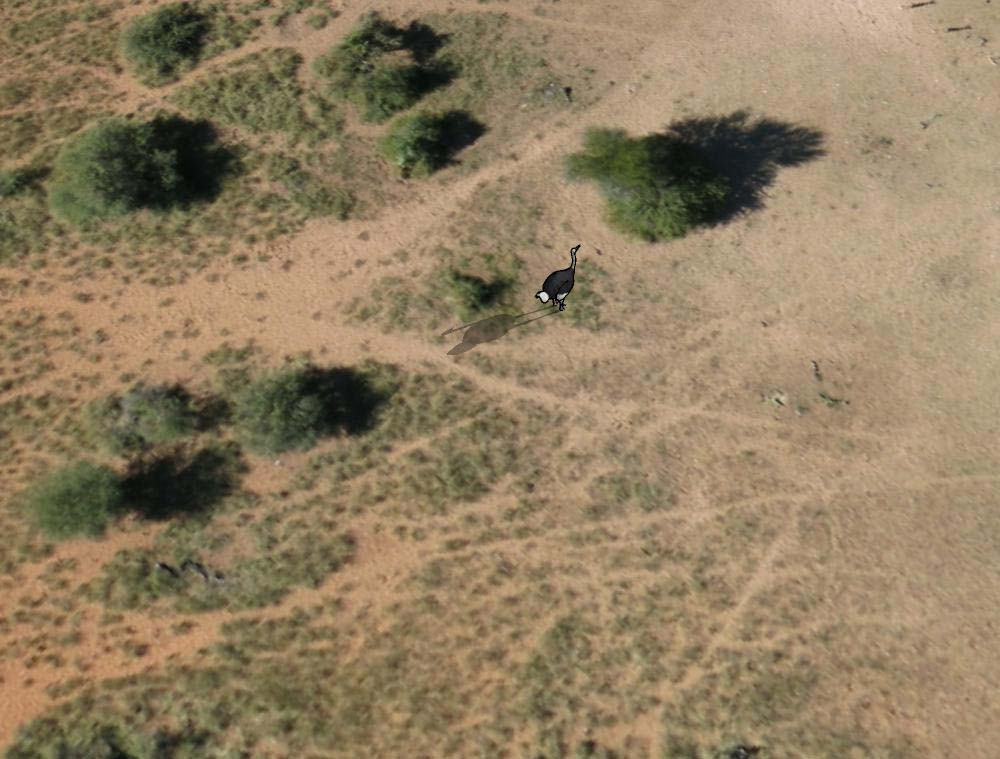springbok: (534, 242, 586, 311)
